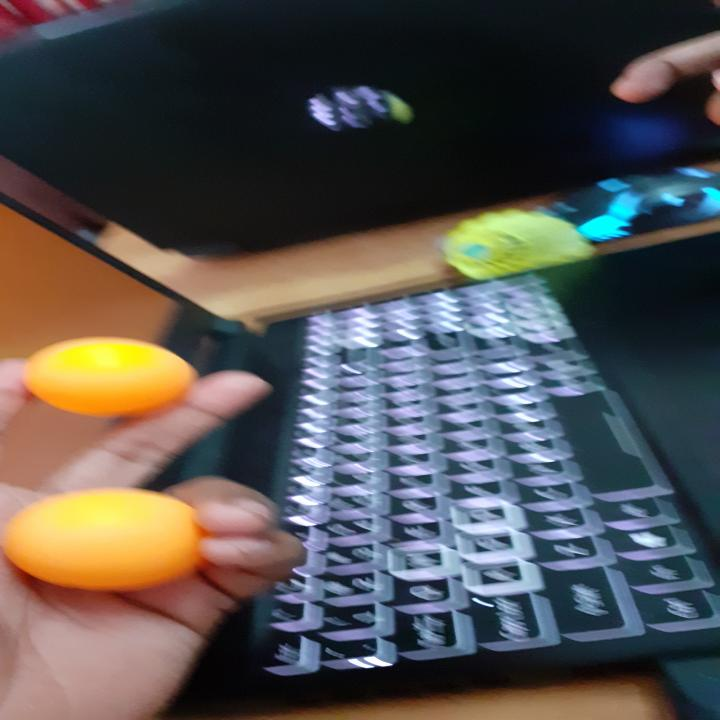orange: (6, 487, 198, 588), (18, 336, 194, 418)
